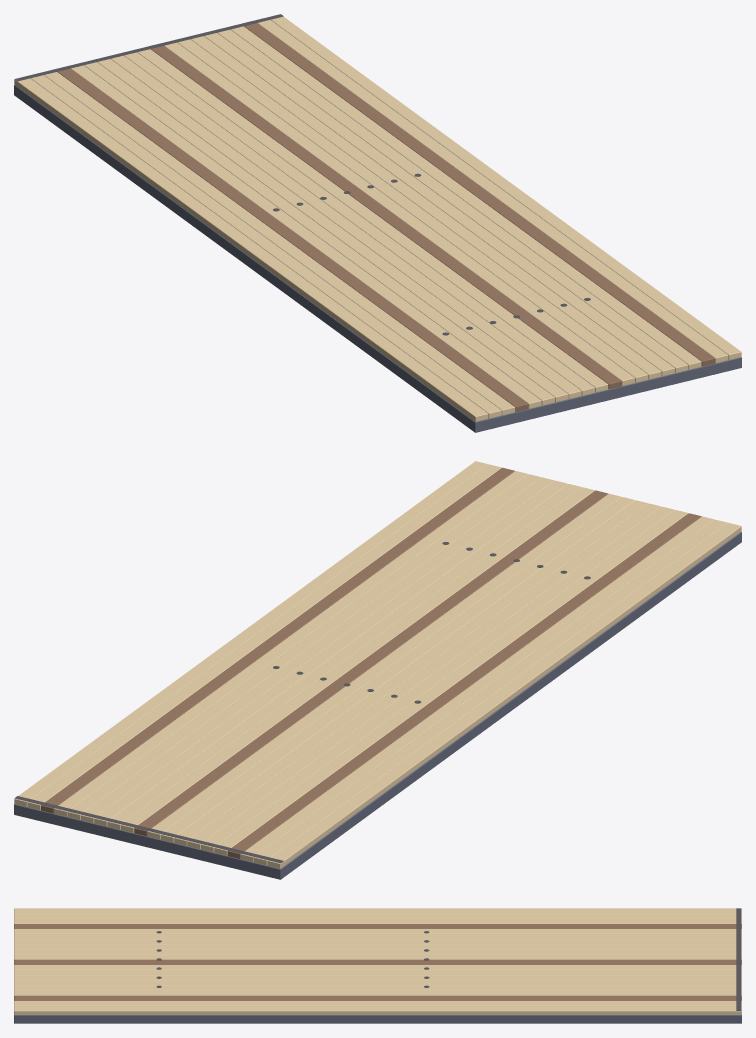
Rendered from bowling-alley-and-pool-hall-bowling-approach-and-foul--abd3a2c0__33835.glb.
The picture shows the model from 3 angles, top to bottom: view 1: azimuth 30°, elevation 25°; view 2: azimuth 150°, elevation 25°; view 3: azimuth 270°, elevation 25°; orthographic projection. The views are drawn at different scales.
Visible parts, largest first — view 1: bowling-approach-and-foul-line; view 2: bowling-approach-and-foul-line; view 3: bowling-approach-and-foul-line.
Boxes of the visible parts, x1,y1,x2,y2 form: bowling-approach-and-foul-line: [14, 14, 741, 432]; bowling-approach-and-foul-line: [14, 461, 741, 879]; bowling-approach-and-foul-line: [14, 908, 741, 1023].
Bounding box in the file's own units: 1.53 × 0.0913 × 4.57.
